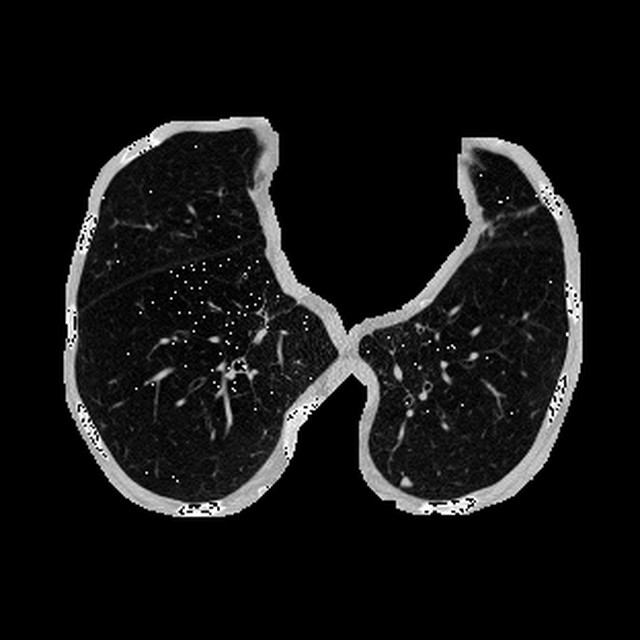PN: (400, 476, 412, 488)
